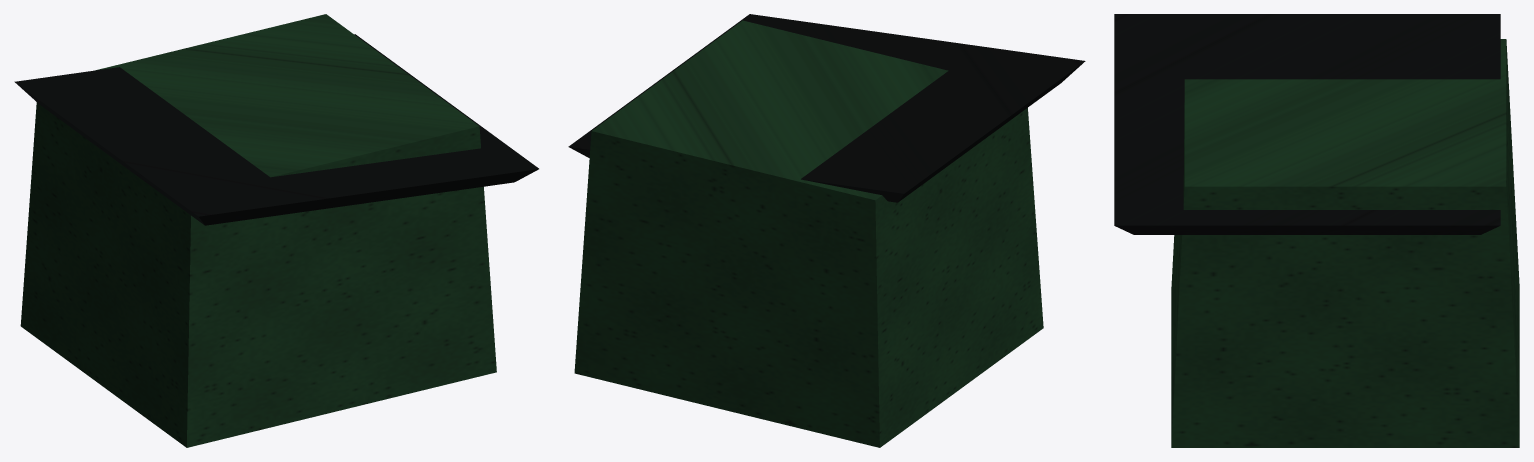
File: PROP-193FC185D553.glb
The picture shows the model from 3 angles, left to right: view 1: azimuth 30°, elevation 25°; view 2: azimuth 150°, elevation 25°; view 3: azimuth 270°, elevation 25°; orthographic projection. The views are drawn at different scales.
Parts seen in each view (by area): view 1: waste_container.004, bin_lid.004; view 2: waste_container.004, bin_lid.004; view 3: waste_container.004, bin_lid.004.
Boxes of the visible parts, x1,y1,x2,y2 form: waste_container.004: (20, 14, 496, 447); bin_lid.004: (14, 34, 538, 225); waste_container.004: (574, 20, 1043, 447); bin_lid.004: (568, 14, 1085, 202); waste_container.004: (1171, 39, 1519, 447); bin_lid.004: (1114, 14, 1500, 234).
Size of the model in its own units: 0.528 by 0.3772 by 0.5186.
Materials: 2 (2 with a texture image).
